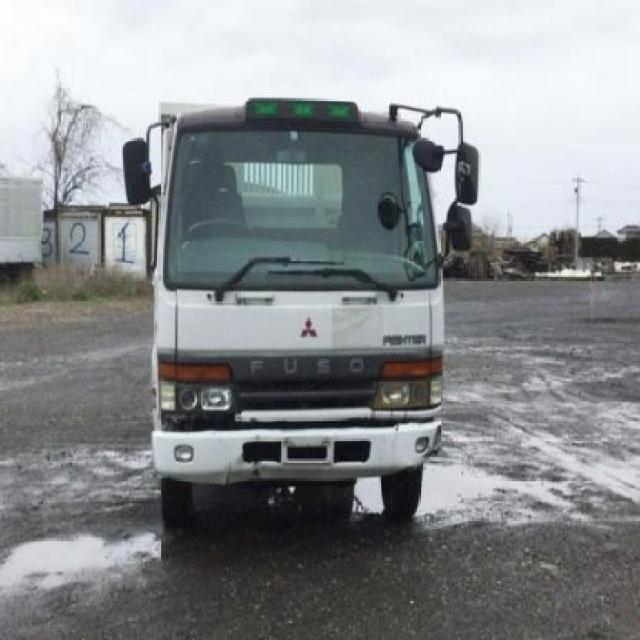truck: (119, 94, 477, 526)
